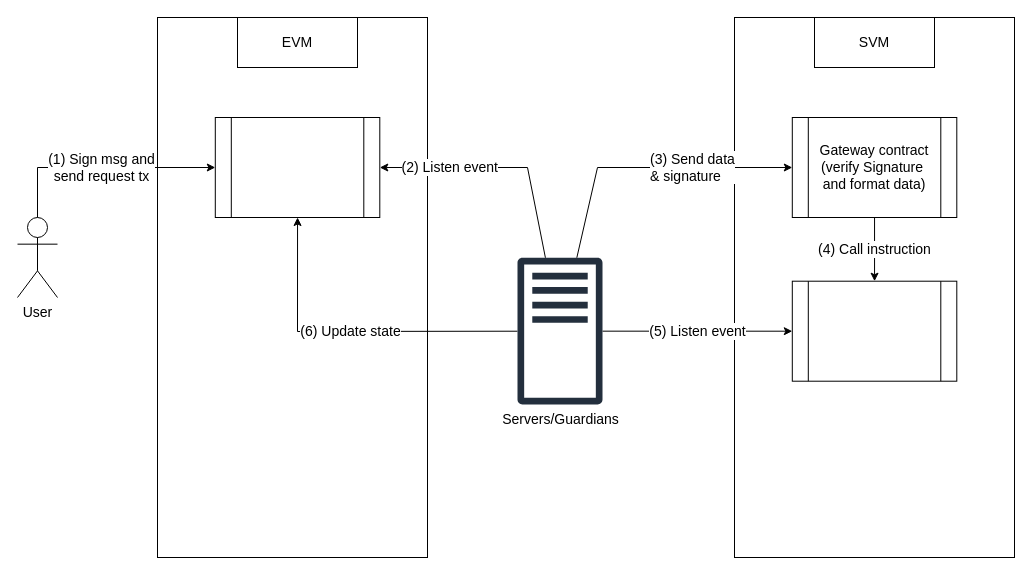
Some shapes in this 1032 by 575 pixel diagram are drawn without their labels. Here are the shapes that lost their labels. From the top down, the centre of each, then its label:
At pixel 297 167: "Controller contract".
At pixel 874 330: "Main contract".
